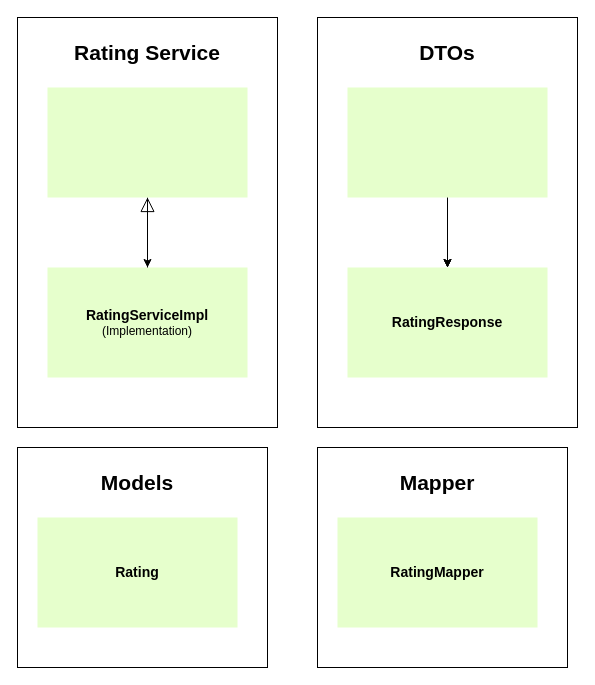
This 595x685 diagram has some shape labels left out. The centre of each missing label's shape, as x and y in pixels:
"RatingRequest" goes at [447,142].
"RatingService (Interface)" goes at [147,142].
